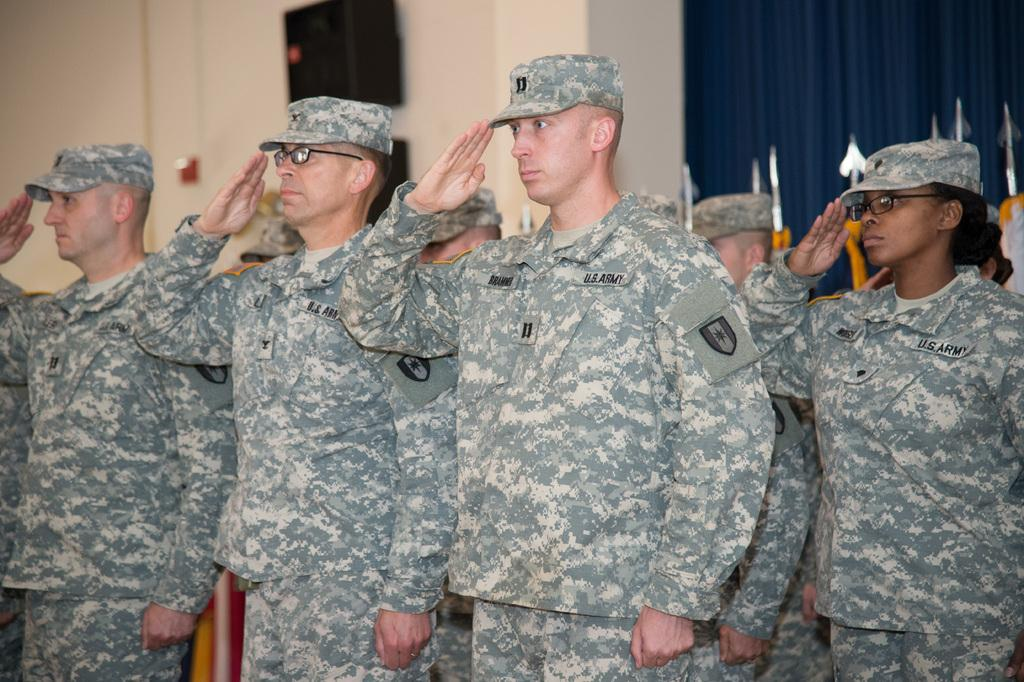Hat: (484, 51, 626, 130), (840, 140, 984, 208), (26, 138, 152, 200), (258, 96, 393, 150), (425, 180, 505, 242), (683, 189, 772, 240), (618, 188, 680, 220)
